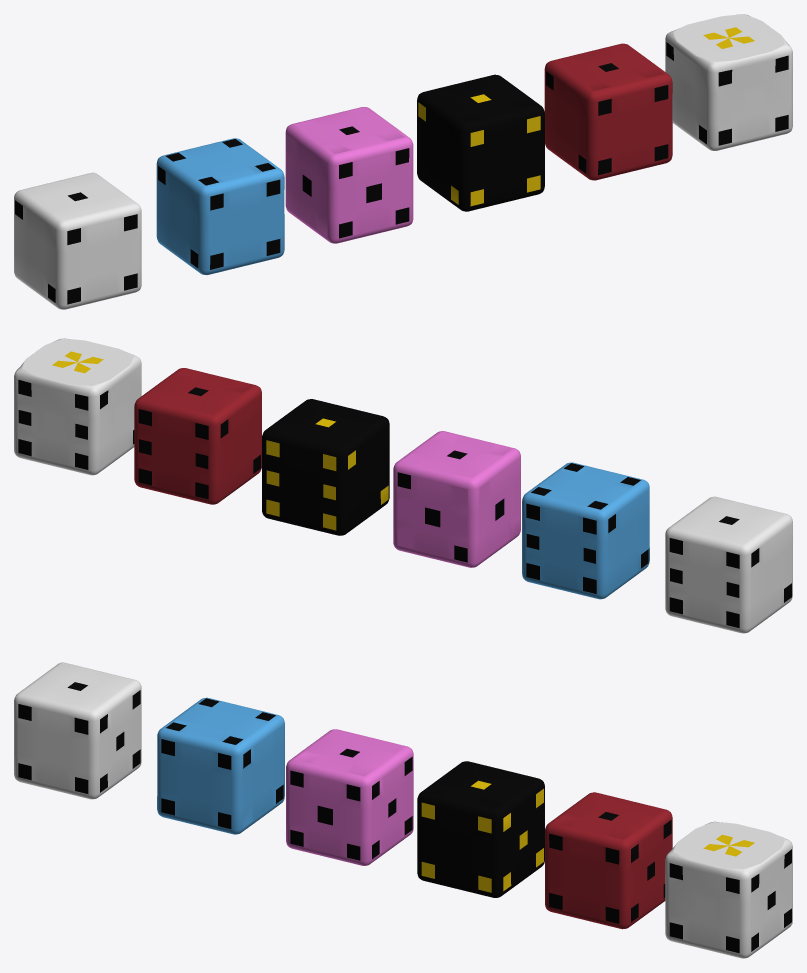
Rendered from Dice_ver20.fbx.
3 views of the same model, one above another, from view 1: azimuth 30°, elevation 25°; view 2: azimuth 150°, elevation 25°; view 3: azimuth 330°, elevation 25° (orthographic).
Visible parts, largest first — view 1: Even, Even.001, Blood, Fraud, normal, Blood.001; view 2: Even, normal, Fraud, Even.001, Blood, Blood.001; view 3: Blood.001, normal, Fraud, Even.001, Even, Blood.
Part boxes in pixels (left/top/right/bottom): Even: left=156, top=138, right=284, bottom=275; Even.001: left=285, top=107, right=413, bottom=243; Blood: left=544, top=43, right=672, bottom=180; Fraud: left=417, top=74, right=544, bottom=211; normal: left=14, top=172, right=141, bottom=309; Blood.001: left=665, top=14, right=792, bottom=150; Even: left=522, top=462, right=649, bottom=599; normal: left=665, top=496, right=792, bottom=633; Fraud: left=262, top=399, right=389, bottom=535; Even.001: left=393, top=431, right=520, bottom=567; Blood: left=134, top=368, right=261, bottom=504; Blood.001: left=14, top=338, right=141, bottom=475; Blood.001: left=665, top=821, right=792, bottom=958; normal: left=14, top=662, right=141, bottom=799; Fraud: left=417, top=761, right=544, bottom=897; Even.001: left=286, top=729, right=413, bottom=865; Even: left=157, top=697, right=284, bottom=834; Blood: left=545, top=792, right=672, bottom=929.
Size of the model in its own units: 1734 by 201 by 206.
